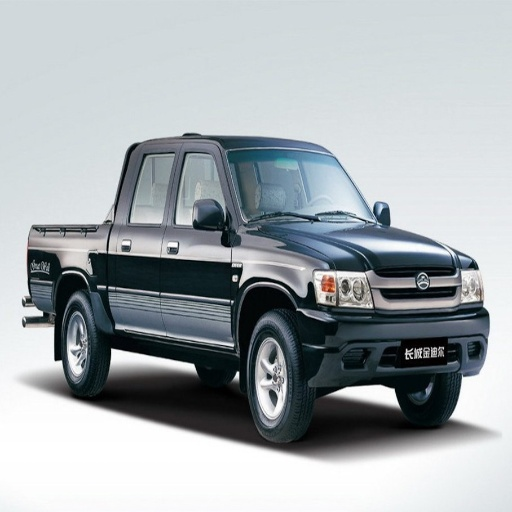front_bumper: (298, 269, 490, 386)
front_right_door: (162, 145, 237, 348)
front_right_light: (313, 262, 371, 309)
hood: (260, 216, 461, 272)
trunk: (35, 227, 102, 312)
